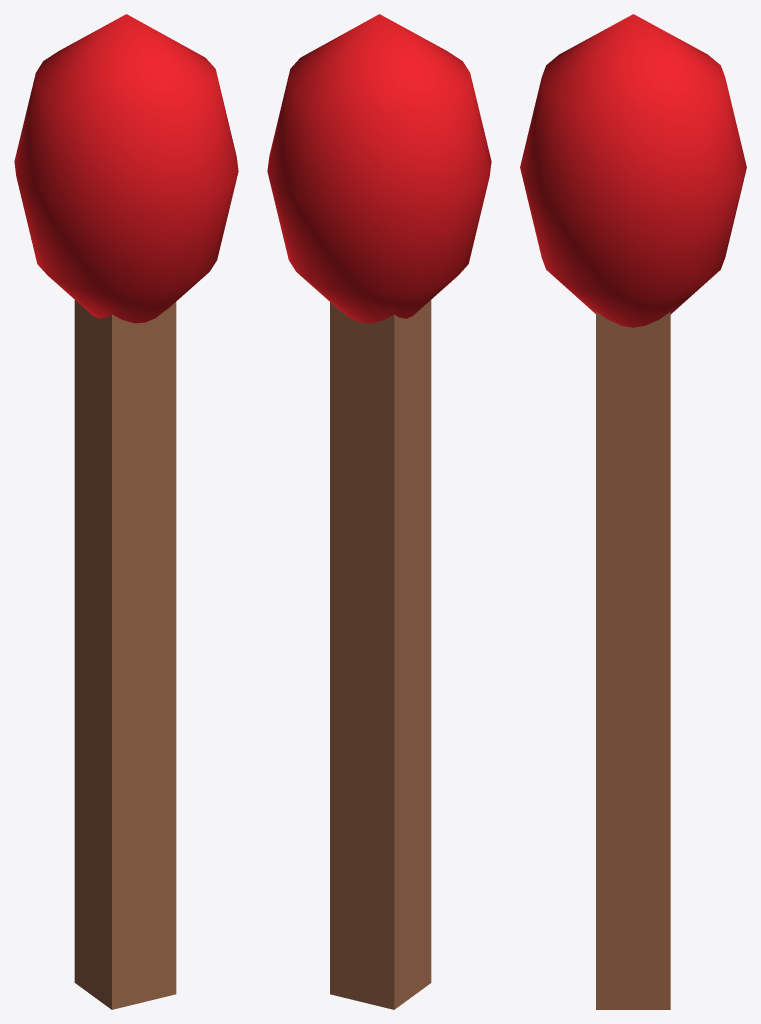
File: match.obj
The picture shows the model from 3 angles, left to right: view 1: azimuth 30°, elevation 25°; view 2: azimuth 150°, elevation 25°; view 3: azimuth 270°, elevation 25°; orthographic projection.
Visible parts, largest first — view 1: pSphere2; view 2: pSphere2; view 3: pSphere2.
Part boxes in pixels (x1,y1,x2,y2): pSphere2: (14, 14, 238, 1009); pSphere2: (267, 14, 491, 1009); pSphere2: (520, 14, 746, 1009).
Bounding box in the file's own units: 0.2071 × 0.9878 × 0.2071.
1 material, 1 textured.
